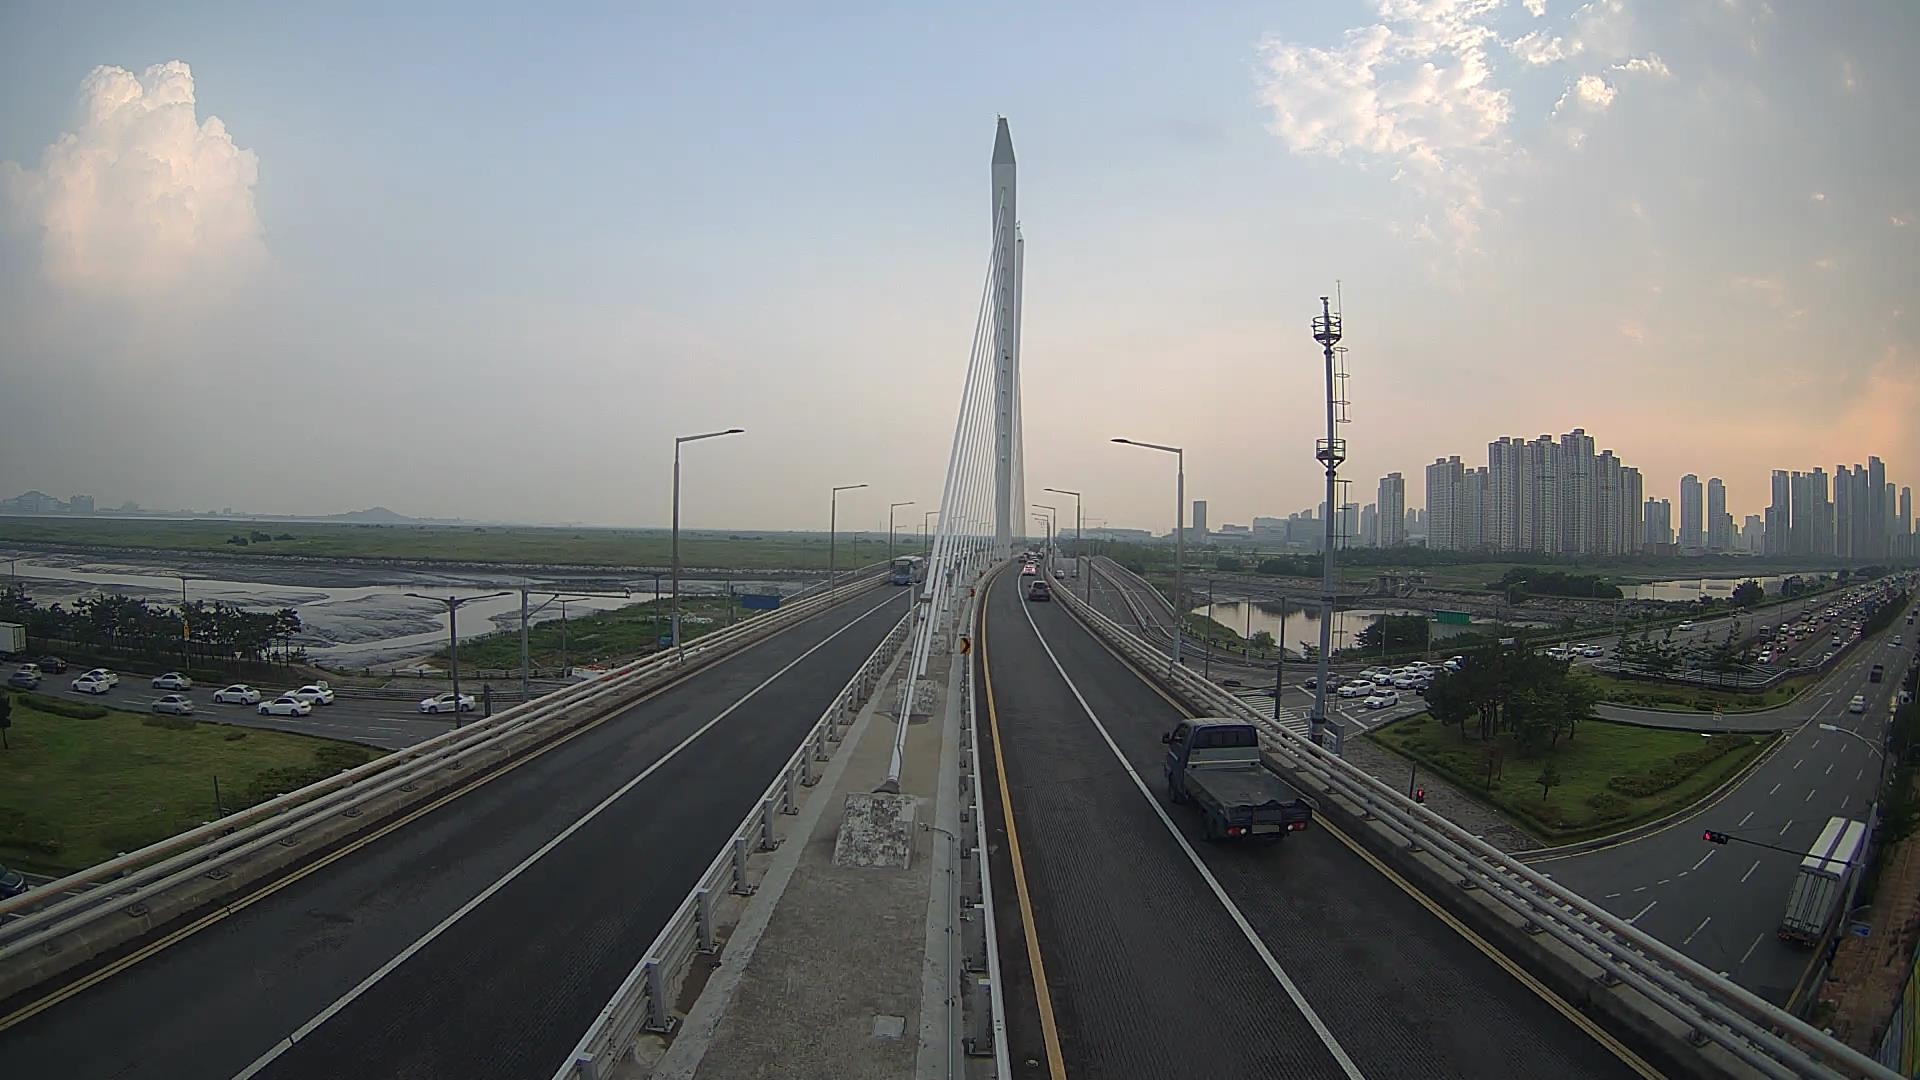정상차량: (1162, 717, 1312, 844)
